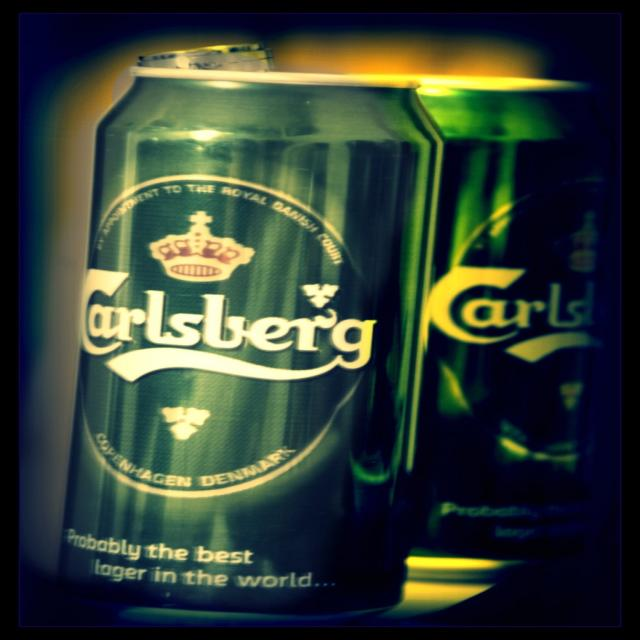carlsberg: (69, 172, 386, 499), (426, 170, 632, 469)
